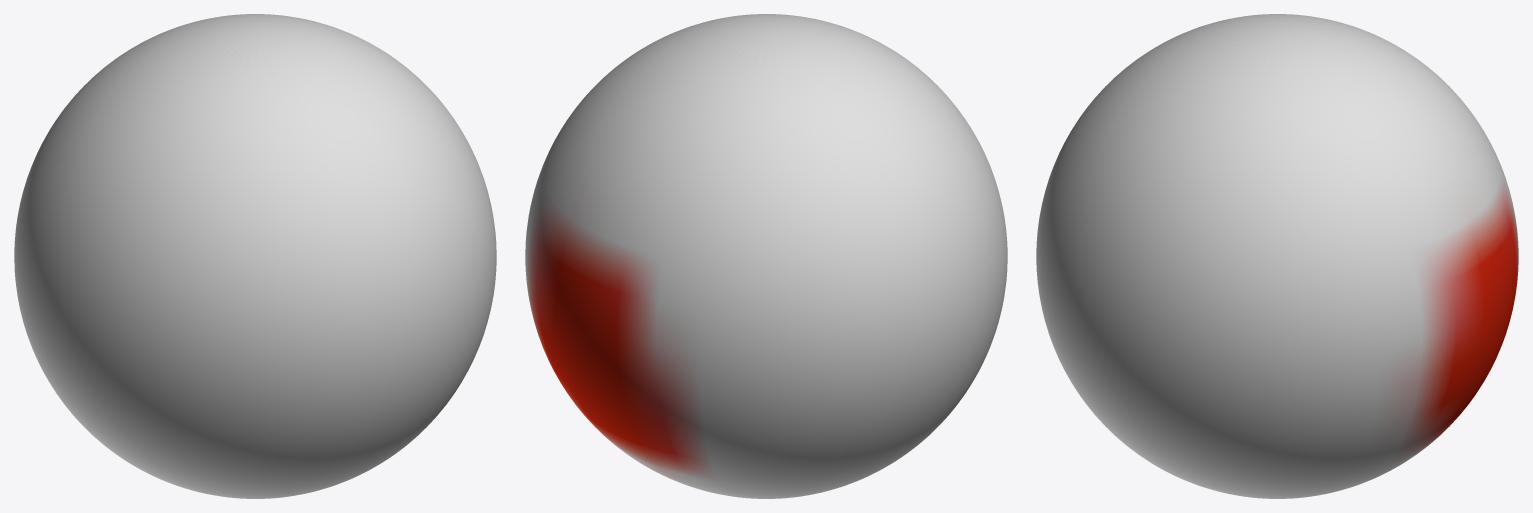
File: SM_Planet_Habital_Atmosphere.fbx
The picture shows the model from 3 angles, left to right: view 1: azimuth 30°, elevation 25°; view 2: azimuth 150°, elevation 25°; view 3: azimuth 270°, elevation 25°; orthographic projection.
Visible parts, largest first — view 1: SM_Planet_Habital_Main_Org.001; view 2: SM_Planet_Habital_Main_Org.001; view 3: SM_Planet_Habital_Main_Org.001.
Part boxes in pixels (box(x1,y1,x2,y2)): SM_Planet_Habital_Main_Org.001: box(14, 14, 496, 498); SM_Planet_Habital_Main_Org.001: box(525, 14, 1007, 498); SM_Planet_Habital_Main_Org.001: box(1036, 14, 1518, 498).
Bounding box in the file's own units: 55407 × 55988 × 55407.
